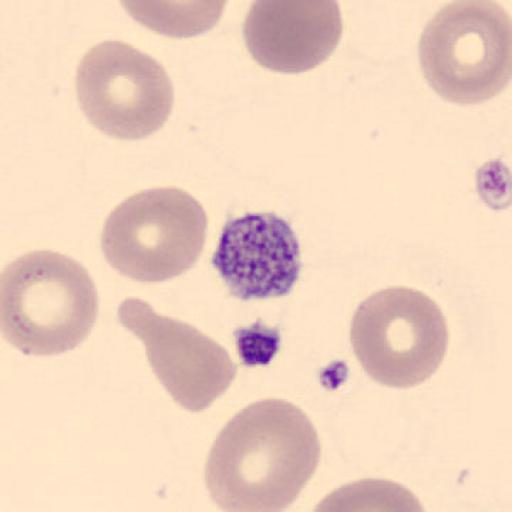Platelet: (208, 208, 307, 304), (230, 318, 285, 372)
RBC: (202, 395, 324, 512), (132, 298, 239, 414), (98, 182, 209, 286), (348, 283, 452, 391), (1, 247, 101, 358), (73, 36, 176, 142), (415, 0, 511, 107), (241, 0, 345, 76), (115, 0, 231, 41), (304, 475, 428, 512)
